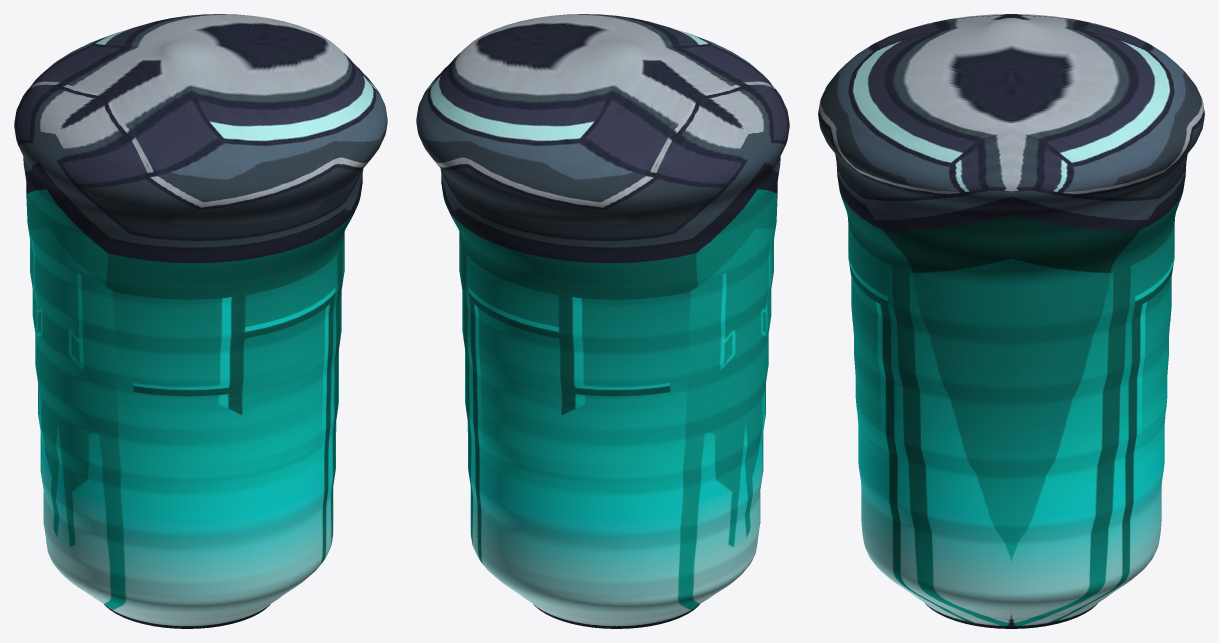
The model's file is coolant_column.glb.
3 views of the same model, side by side, from view 1: azimuth 30°, elevation 25°; view 2: azimuth 150°, elevation 25°; view 3: azimuth 270°, elevation 25° (orthographic). The views are drawn at different scales.
Visible parts, largest first — view 1: coolant_column; view 2: coolant_column; view 3: coolant_column.
Boxes of the visible parts, box(x1,y1,x2,y2) form: coolant_column: box(14, 14, 387, 628); coolant_column: box(416, 14, 789, 628); coolant_column: box(818, 14, 1204, 628).
Bounding box in the file's own units: 0.9969 × 1.6 × 0.9958.
1 material, 1 textured.
